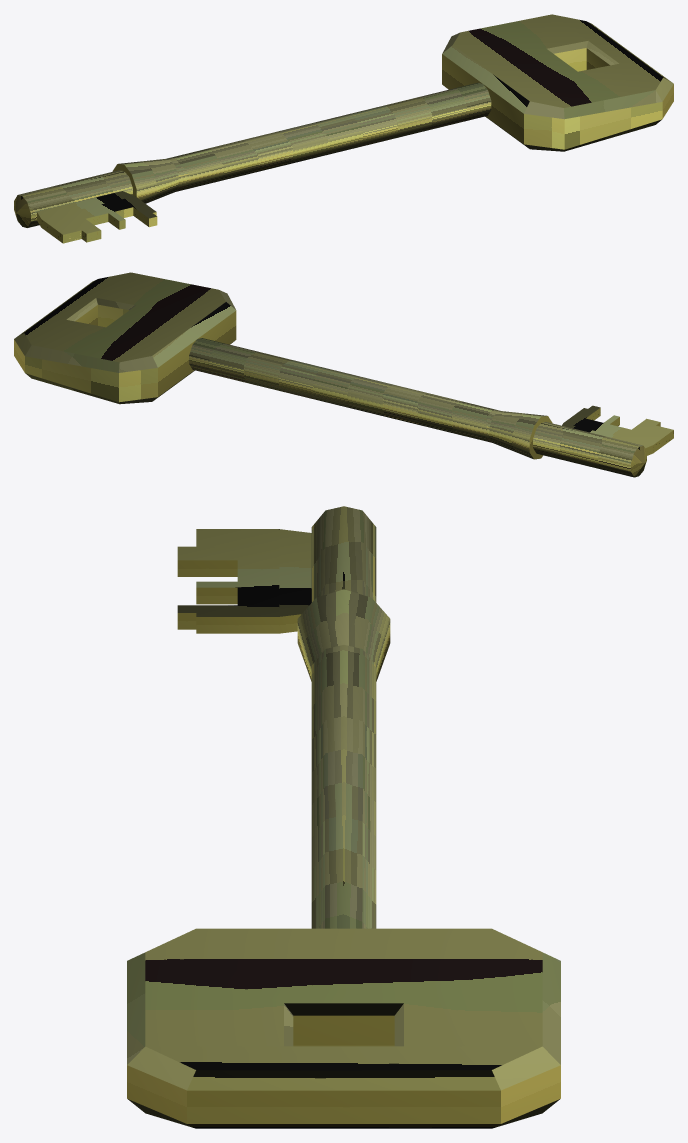
Rendered from PchrkeyboltZ.obj.
3 renders of one model, top to bottom at view 1: azimuth 30°, elevation 25°; view 2: azimuth 150°, elevation 25°; view 3: azimuth 270°, elevation 25°, orthographic. The views are drawn at different scales.
Bounding box in the file's own units: 296 × 22 × 94.
Materials: 1 (1 with a texture image).
